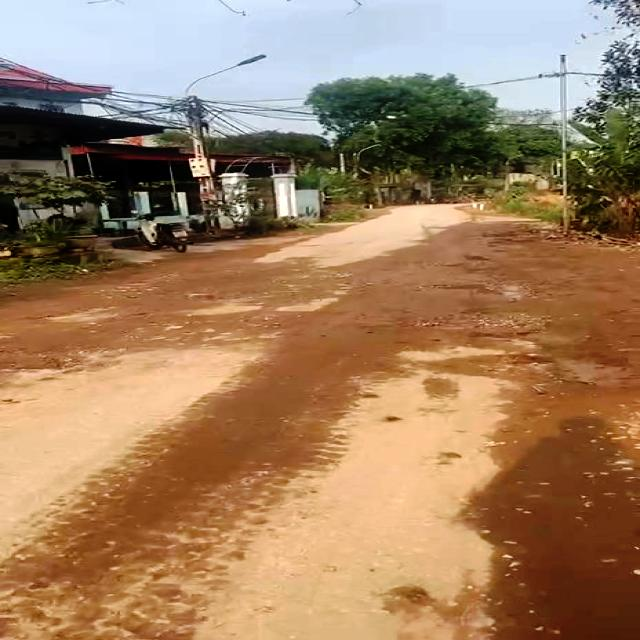pothole: (415, 308, 541, 327)
